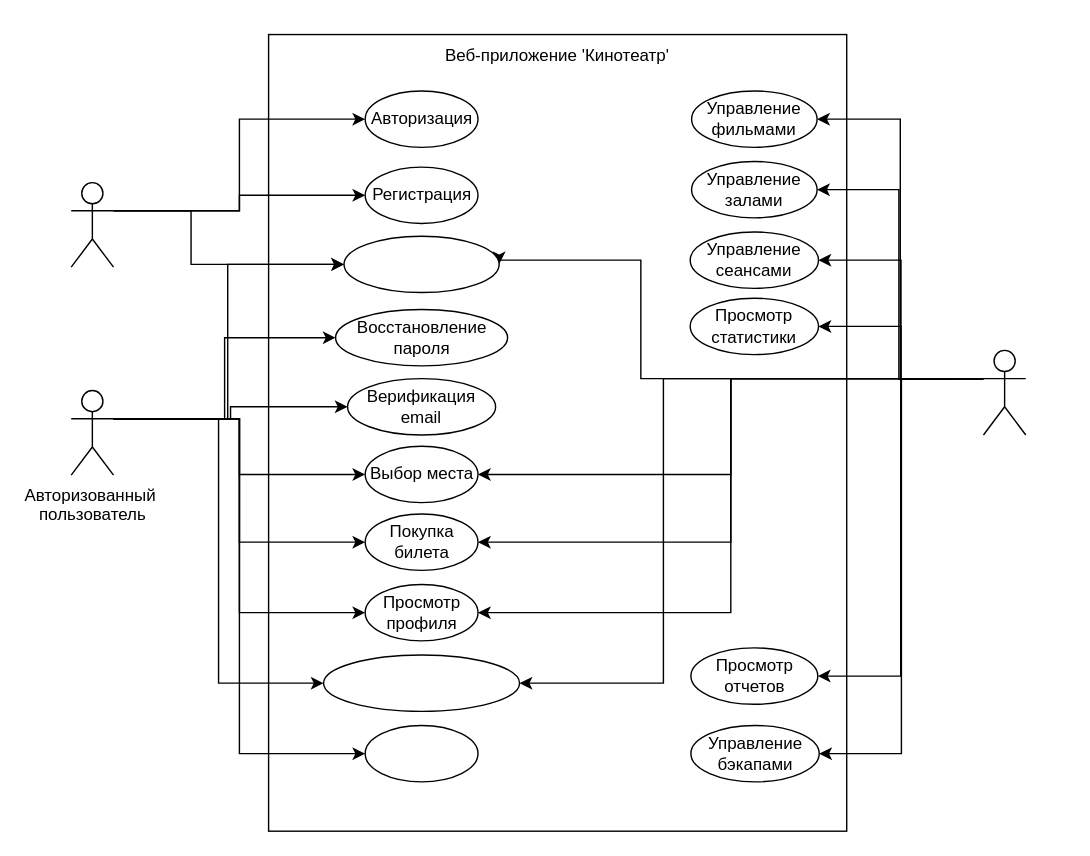
The diagram is 1090 pixels wide and 856 high, and some of its shapes have lost their labels. The centre of each missing label's shape, as x and y in pixels:
"Администратор" belongs at (x=1004, y=392).
"Гость" belongs at (x=92, y=224).
"Привязка Telegram" belongs at (x=421, y=753).
"Просмотр истории заказов" belongs at (x=421, y=682).
"Просмотр сеансов" belongs at (x=421, y=264).
